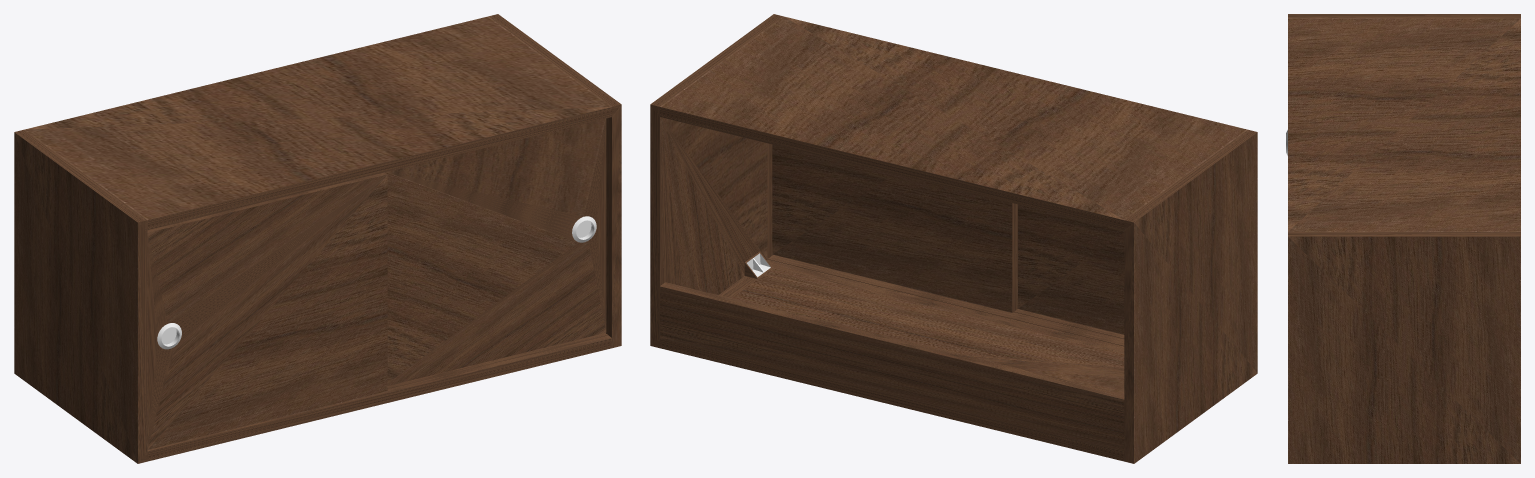
Rendered from anothernewcomp.fbx.
The picture shows the model from 3 angles, left to right: view 1: azimuth 30°, elevation 25°; view 2: azimuth 150°, elevation 25°; view 3: azimuth 270°, elevation 25°; orthographic projection. The views are drawn at different scales.
Visible parts, largest first — view 1: SketchUp.002; view 2: SketchUp.002; view 3: SketchUp.002.
Boxes of the visible parts, x1,y1,x2,y2 form: SketchUp.002: (14,14,621,463); SketchUp.002: (650,14,1257,463); SketchUp.002: (1288,14,1520,463).
Bounding box in the file's own units: 74.61 × 35.56 × 33.27.
